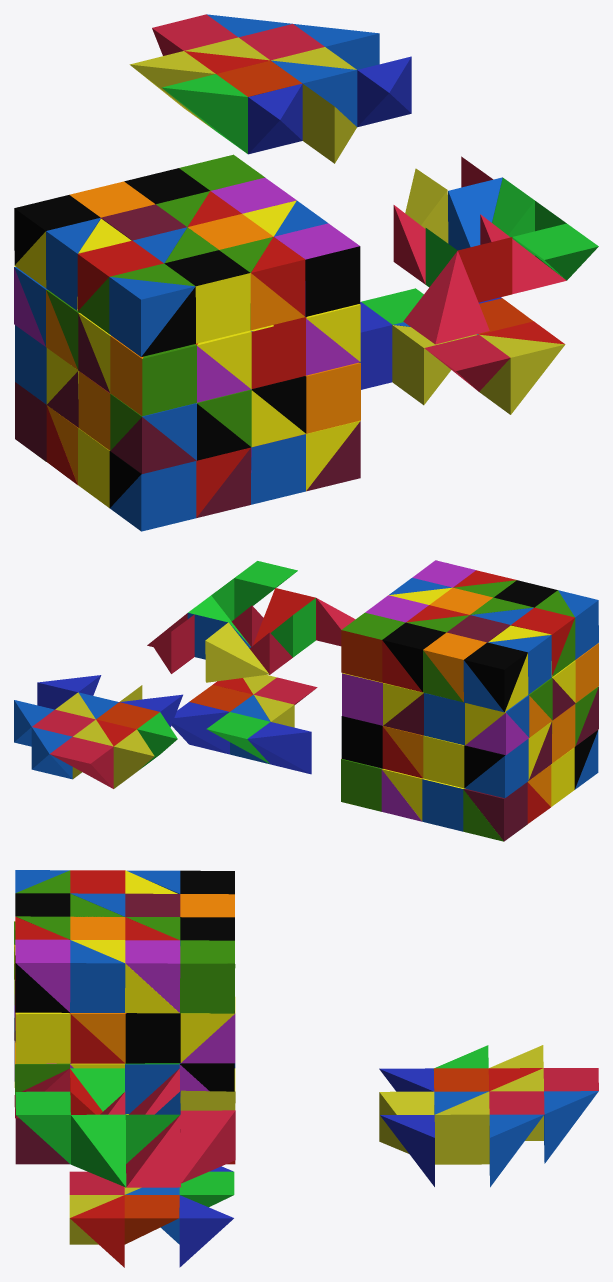
The picture shows the model from 3 angles, top to bottom: view 1: azimuth 30°, elevation 25°; view 2: azimuth 150°, elevation 25°; view 3: azimuth 270°, elevation 25°; orthographic projection. The views are drawn at different scales.
Visible parts, largest first — view 1: Cube.365, Cube.297, Cube.221, Cube.291, Cube.208, Cube.295, Cube.375, Cube.248, Cube.369, Cube.300, Cube.212, Cube.325 (+82 smaller); view 2: Cube.309, Cube.358, Cube.229, Cube.231, Cube.269, Cube.307, Cube.204, Cube.351, Cube.328, Cube.337, Cube.273, Cube.279 (+81 smaller); view 3: Cube.318, Cube.334, Cube.331, Cube.377, Cube.327, Cube.321, Cube.343, Cube.374, Cube.328, Cube.319, Cube.347, Cube.320 (+54 smaller).
Boxes of the visible parts, x1,y1,x2,y2 form: Cube.365: (109, 277, 195, 356); Cube.297: (403, 251, 489, 344); Cube.221: (110, 461, 196, 531); Cube.291: (162, 74, 247, 153); Cube.208: (479, 334, 565, 414); Cube.295: (142, 344, 196, 416); Cube.375: (305, 246, 360, 316); Cube.248: (306, 362, 360, 433); Cube.369: (195, 273, 250, 343); Cube.300: (248, 83, 302, 154); Cube.212: (251, 434, 305, 504); Cube.325: (357, 56, 411, 127); Cube.309: (205, 622, 269, 682); Cube.358: (464, 642, 527, 711); Cube.229: (247, 722, 311, 774); Cube.231: (463, 782, 527, 841); Cube.269: (464, 739, 528, 798); Cube.307: (50, 737, 113, 788); Cube.204: (171, 702, 229, 754); Cube.351: (423, 632, 486, 701); Cube.328: (234, 561, 297, 618); Cube.337: (382, 622, 445, 691); Cube.273: (423, 735, 464, 788); Cube.279: (341, 716, 382, 768); Cube.318: (180, 1110, 235, 1183); Cube.334: (434, 1091, 489, 1164); Cube.331: (71, 1114, 126, 1187); Cube.377: (70, 940, 125, 1012); Cube.327: (15, 1012, 70, 1063); Cube.321: (125, 1013, 180, 1063); Cube.343: (180, 963, 235, 1013); Cube.374: (15, 939, 70, 1011); Cube.328: (15, 1091, 70, 1164); Cube.319: (126, 1115, 181, 1187); Cube.347: (125, 940, 180, 1012); Cube.320: (489, 1114, 543, 1187).
Bounding box in the file's own units: 1875 × 824 × 2130.
